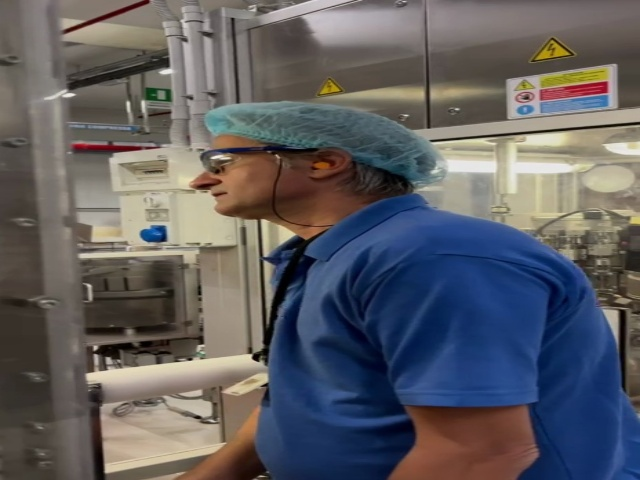Earplug: (309, 149, 351, 180)
Hairnet: (205, 100, 443, 174)
No_Helmet: (206, 106, 440, 149)
No_Vest: (257, 196, 619, 480)
Person: (198, 101, 620, 480)
Safety_Goggles: (198, 146, 316, 174)
